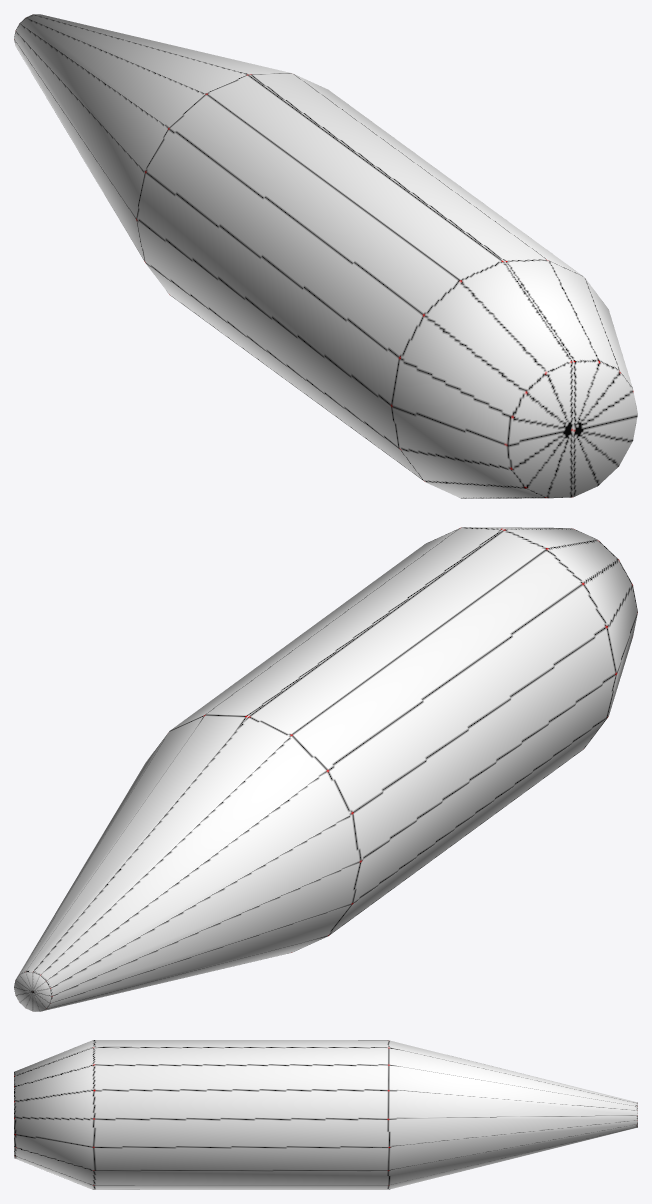
Rendered from bullet.fbx.
3 views of the same model, one above another, from view 1: azimuth 30°, elevation 25°; view 2: azimuth 150°, elevation 25°; view 3: azimuth 270°, elevation 25° (orthographic). The views are drawn at different scales.
Visible parts, largest first — view 1: bullet; view 2: bullet; view 3: bullet.
Boxes of the visible parts, <box> form: bullet: <box>14,14,637,498</box>; bullet: <box>14,527,637,1011</box>; bullet: <box>14,1040,637,1189</box>.
Bounding box in the file's own units: 0.717 × 0.717 × 2.99.
Materials: 1 (1 with a texture image).
